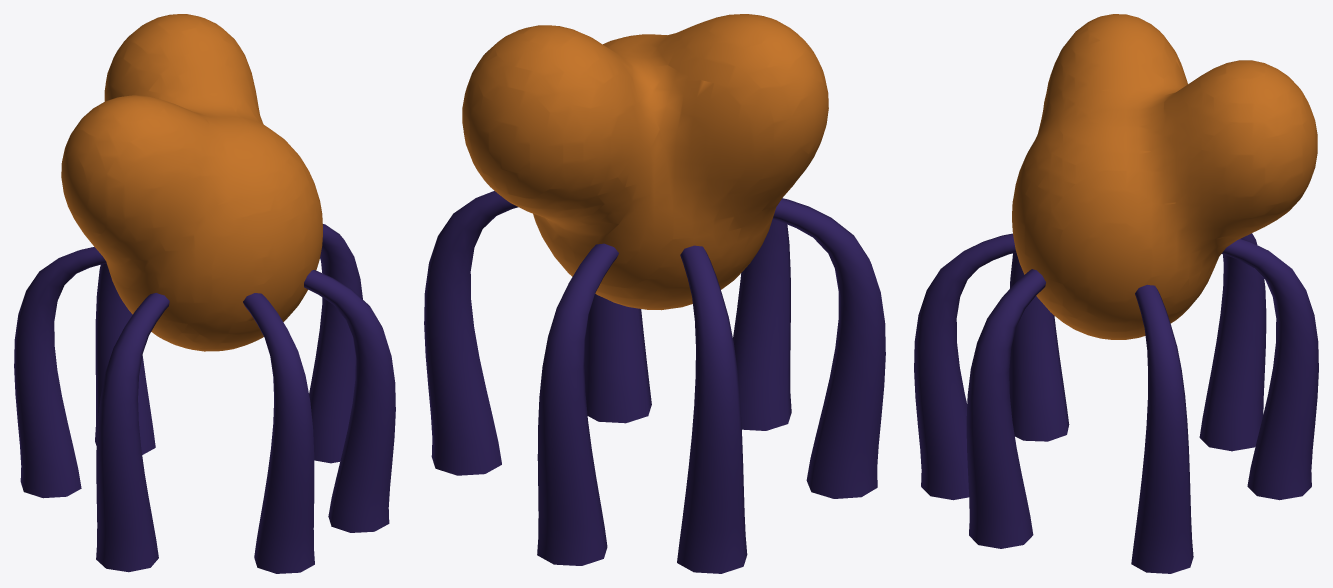
File: Tree_Blob_2-transformed.glb
3 renders of one model, left to right at view 1: azimuth 30°, elevation 25°; view 2: azimuth 150°, elevation 25°; view 3: azimuth 270°, elevation 25°, orthographic. The views are drawn at different scales.
Visible parts, largest first — view 1: Tree_Blob_2; view 2: Tree_Blob_2; view 3: Tree_Blob_2.
Part boxes in pixels (x1,y1,x2,y2): Tree_Blob_2: [14, 14, 395, 573]; Tree_Blob_2: [424, 14, 885, 573]; Tree_Blob_2: [914, 14, 1318, 573].
Size of the model in its own units: 3.69 by 4.61 by 3.86.
1 material, 1 textured.
